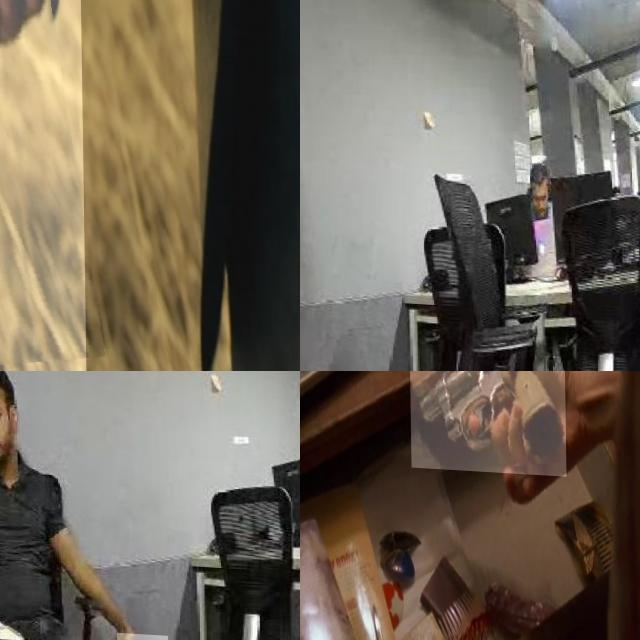-: (300, 225, 314, 301), (115, 628, 167, 640)
gun-knife-thesis - v11 Yolov5 augmented: (0, 0, 120, 371), (408, 371, 565, 471)
